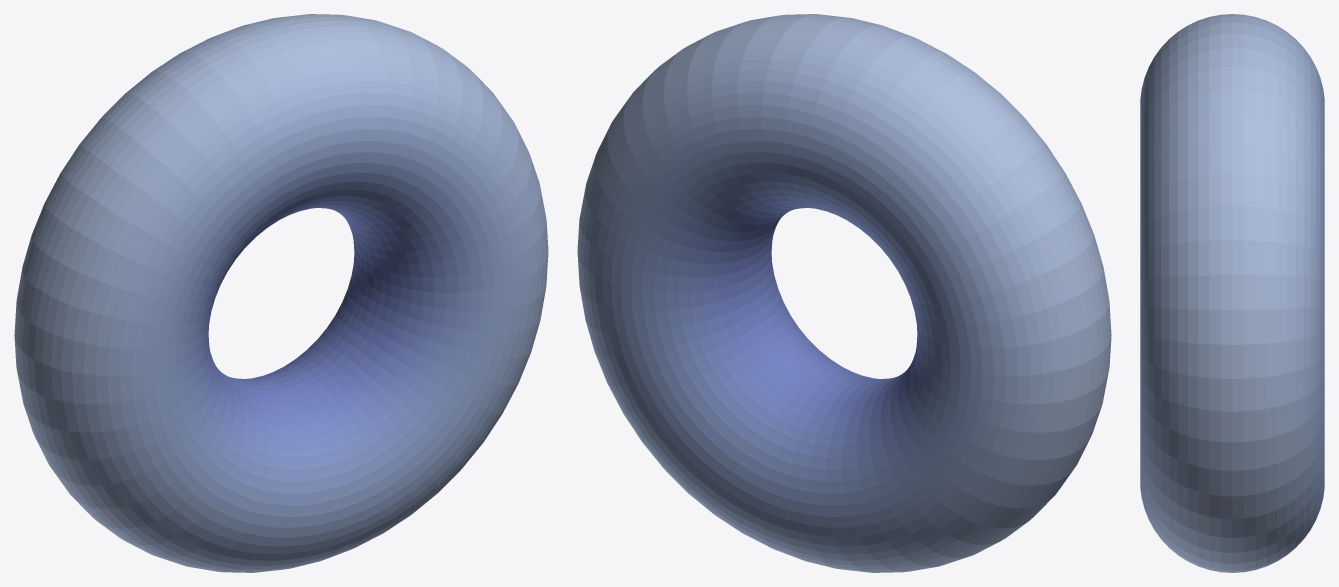
The picture shows the model from 3 angles, left to right: view 1: azimuth 30°, elevation 25°; view 2: azimuth 150°, elevation 25°; view 3: azimuth 270°, elevation 25°; orthographic projection. The views are drawn at different scales.
Parts seen in each view (by area): view 1: world; view 2: world; view 3: world.
Part boxes in pixels (box(x1,y1,x2,y2)): world: box(14, 14, 548, 572); world: box(577, 14, 1111, 572); world: box(1140, 14, 1324, 572).
Size of the model in its own units: 18.93 by 18.9 by 6.25.
